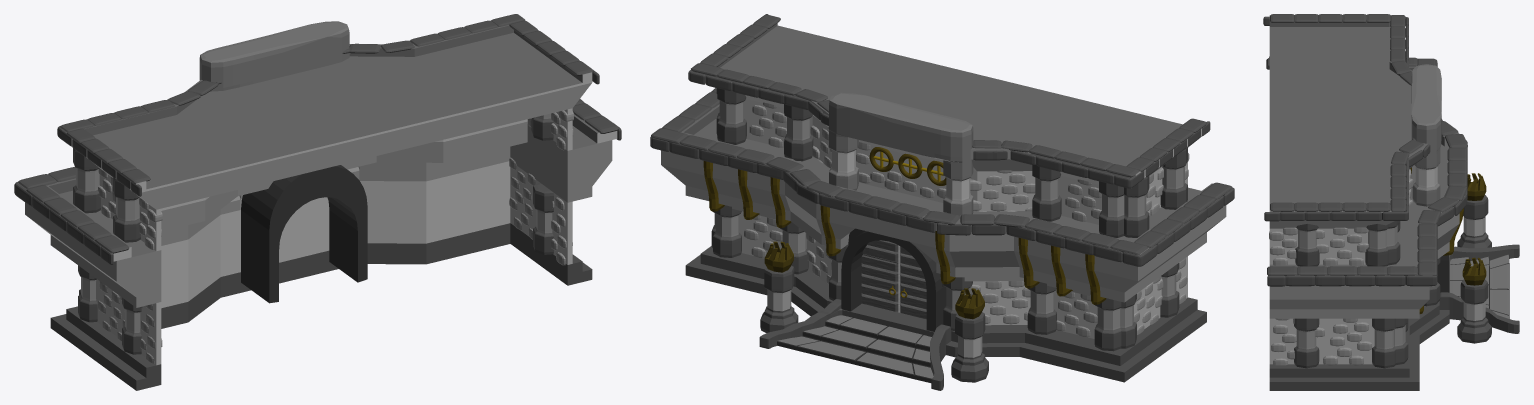
File: deungeonEntrance.fbx
The picture shows the model from 3 angles, left to right: view 1: azimuth 30°, elevation 25°; view 2: azimuth 150°, elevation 25°; view 3: azimuth 270°, elevation 25°; orthographic projection. The views are drawn at different scales.
Visible parts, largest first — view 1: Cube, Cube.030, Cylinder.003, Cube.013, Cube.005, stone.188; view 2: Cube, Cube.030, Cube.005, stone.188, Cube.013, Cube.001, Cube.025, Cube.032, Cylinder.003, Cube.016, Cube.002, Cube.034 (+1 smaller); view 3: Cube, Cube.030, Cube.005, stone.188, Cube.013, Cube.034, Cube.001, Cube.016, Cube.002, Cylinder.003, Cube.025.
Part boxes in pixels (x1=…): Cube: x1=17, y1=25, x2=617, y2=390; Cube.030: x1=14, y1=14, x2=621, y2=264; Cylinder.003: x1=241, y1=165, x2=367, y2=303; Cube.013: x1=199, y1=21, x2=349, y2=91; Cube.005: x1=73, y1=113, x2=553, y2=354; stone.188: x1=97, y1=110, x2=573, y2=363; Cube: x1=661, y1=23, x2=1226, y2=382; Cube.030: x1=650, y1=14, x2=1234, y2=266; Cube.005: x1=711, y1=88, x2=1187, y2=351; stone.188: x1=744, y1=102, x2=1189, y2=337; Cube.013: x1=829, y1=92, x2=973, y2=215; Cube.001: x1=777, y1=315, x2=933, y2=382; Cube.025: x1=703, y1=161, x2=1106, y2=304; Cube.032: x1=861, y1=240, x2=926, y2=319; Cylinder.003: x1=841, y1=228, x2=946, y2=331; Cube.016: x1=759, y1=299, x2=951, y2=390; Cube.002: x1=951, y1=288, x2=988, y2=382; Cube.034: x1=760, y1=241, x2=798, y2=333; Cube: x1=1269, y1=15, x2=1464, y2=390; Cube.030: x1=1263, y1=14, x2=1467, y2=286; Cube.005: x1=1294, y1=221, x2=1440, y2=368; stone.188: x1=1269, y1=56, x2=1413, y2=365; Cube.013: x1=1411, y1=64, x2=1441, y2=206; Cube.034: x1=1457, y1=257, x2=1491, y2=343; Cube.001: x1=1449, y1=254, x2=1509, y2=318; Cube.016: x1=1439, y1=244, x2=1519, y2=333; Cube.002: x1=1457, y1=173, x2=1491, y2=248; Cylinder.003: x1=1437, y1=255, x2=1448, y2=292; Cube.025: x1=1419, y1=208, x2=1463, y2=313.
Bounding box in the file's own units: 5170 × 2206 × 2561.
Materials: 1 (1 with a texture image).
